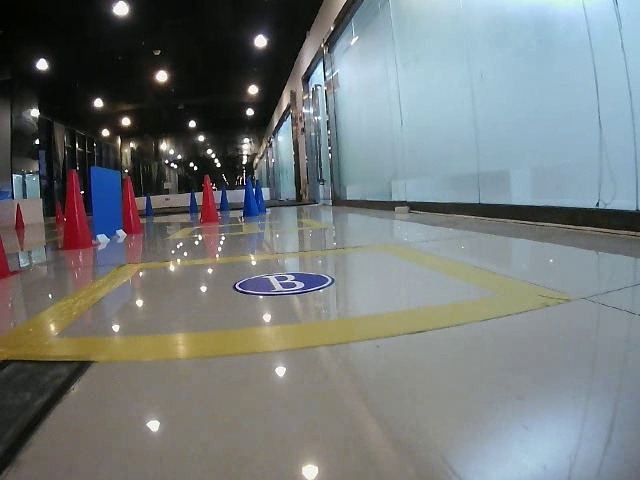B: (235, 269, 332, 294)
